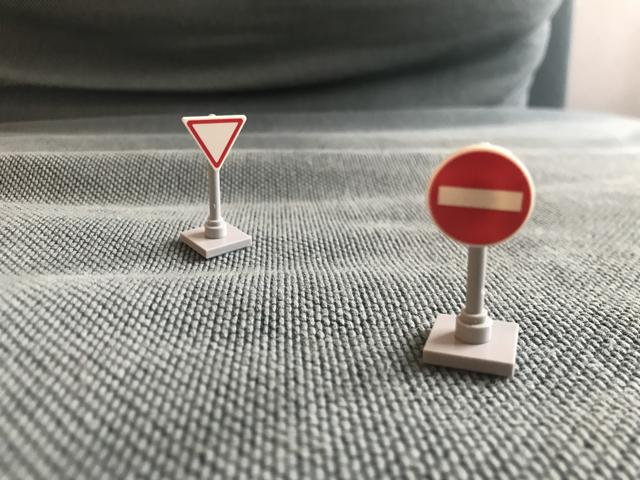verbot der einfahrt: (428, 145, 536, 249)
vorfahrt gewähren: (178, 112, 253, 173)
